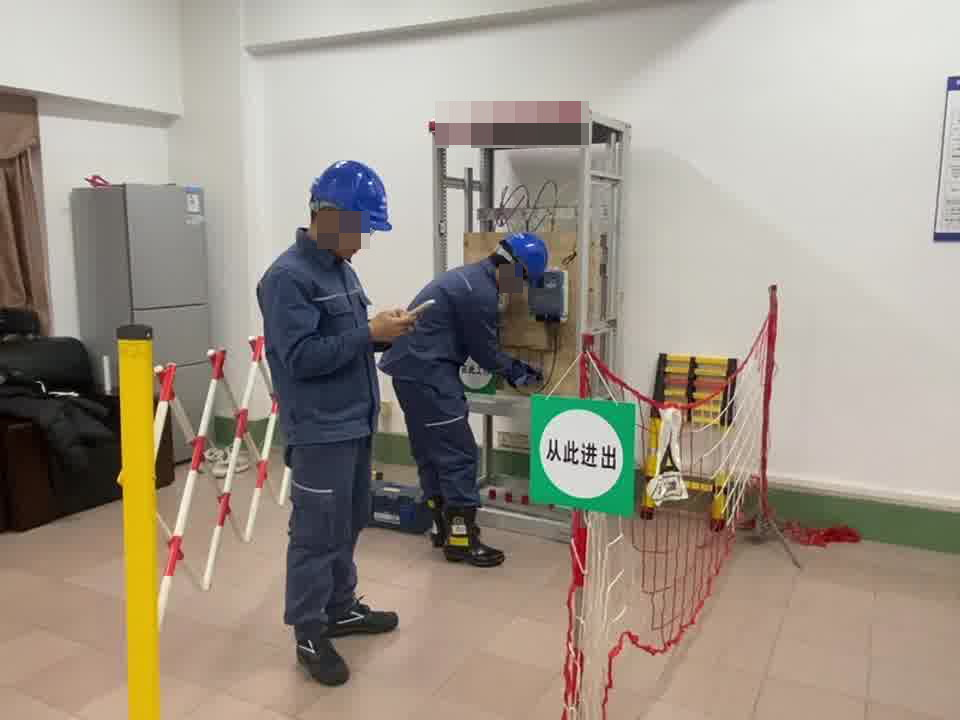downsuit: (283, 438, 379, 625), (397, 380, 486, 507)
glove: (504, 356, 539, 389)
halt: (304, 159, 393, 254), (487, 232, 553, 292)
hand: (369, 303, 418, 342)
inear: (315, 205, 344, 245), (500, 259, 521, 284)
intosign: (525, 387, 642, 526)
person: (252, 152, 400, 687), (387, 225, 554, 570)
shoe: (428, 495, 506, 568)
upsuit: (257, 239, 383, 435), (378, 257, 532, 377)
worksign: (459, 355, 497, 396)
